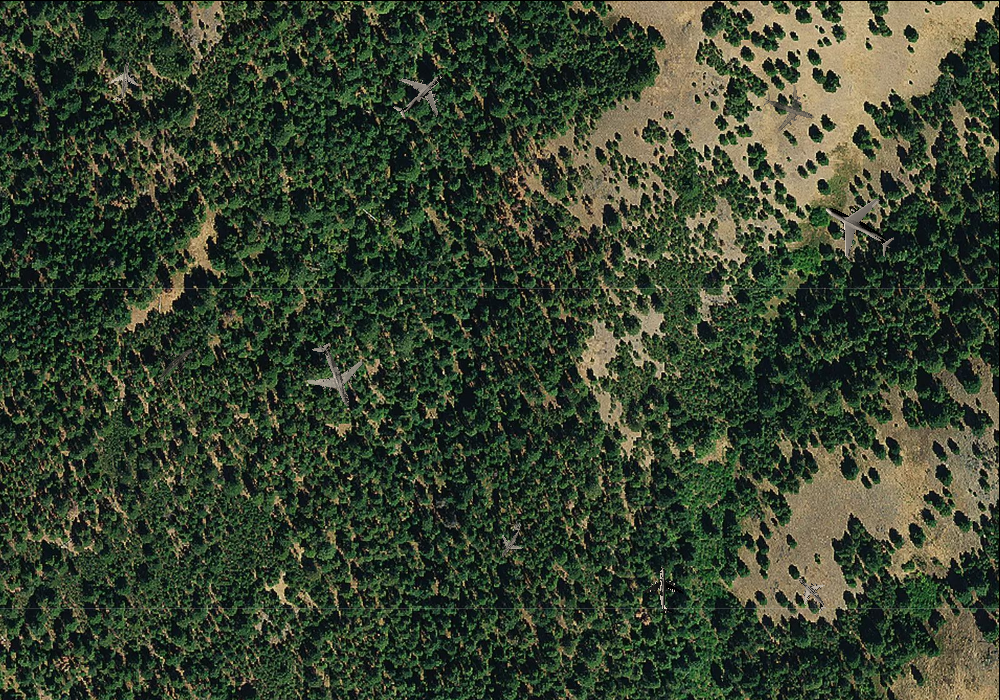plane: (808, 177, 909, 277), (292, 332, 376, 418), (379, 53, 461, 135), (755, 74, 823, 140), (143, 335, 206, 397), (785, 568, 838, 621), (641, 566, 687, 614), (487, 519, 532, 565), (102, 58, 142, 103)
